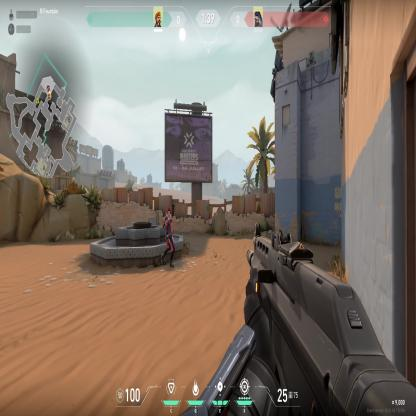enemy: (160, 205, 176, 271)
